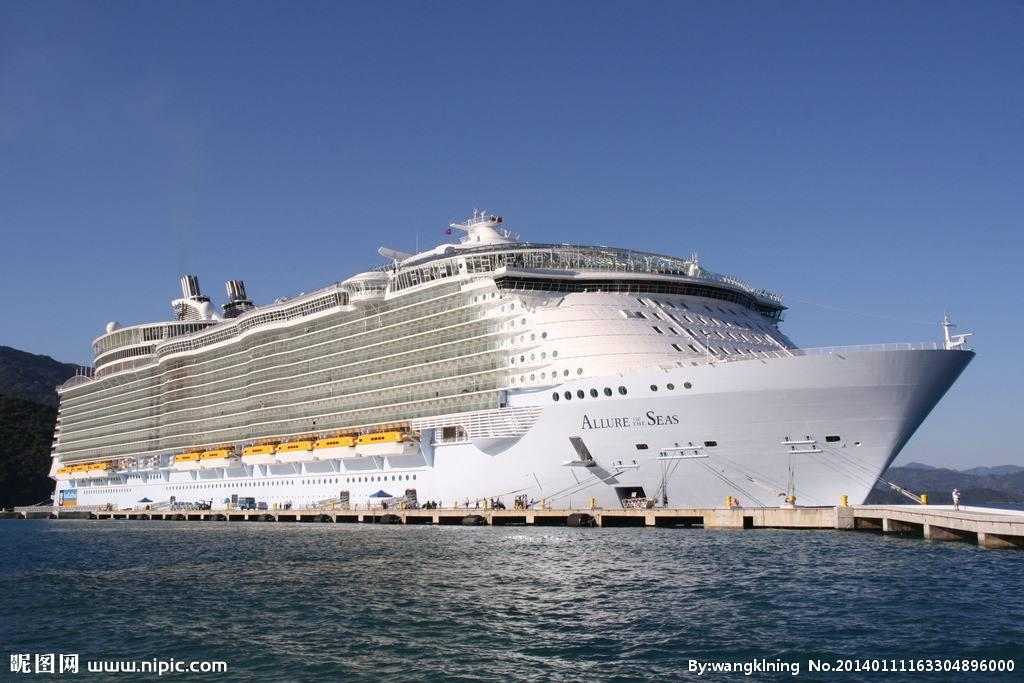youlun: (42, 210, 973, 529)
